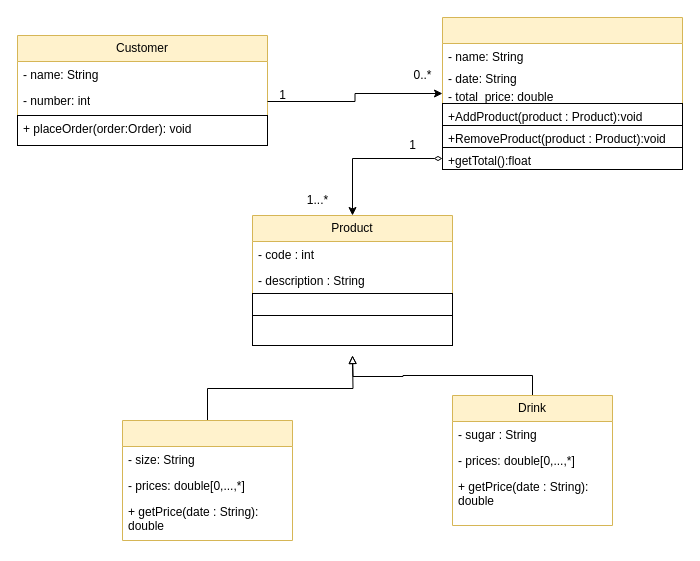
Some shapes in this 700 by 561 pixel diagram are drawn without their labels. Each missing label, with the box of its shape:
+ getPrice() : price: (252, 314, 452, 346)
+ updatePrice(price : double) : void: (252, 292, 452, 316)
Order: (442, 16, 682, 170)
Pizza: (122, 420, 292, 540)
